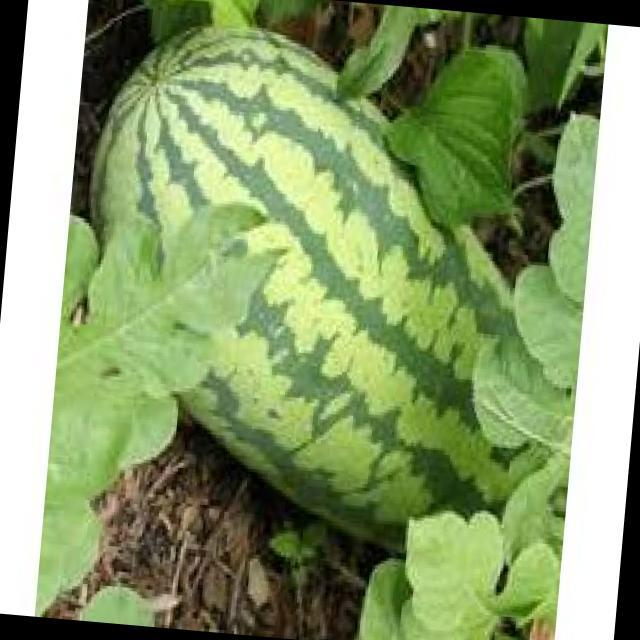watermelon: (91, 29, 554, 536)
